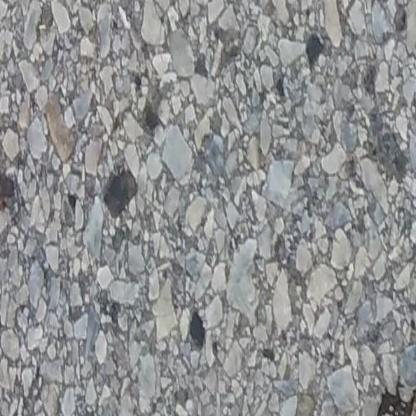Cracks: (363, 278, 416, 416)
